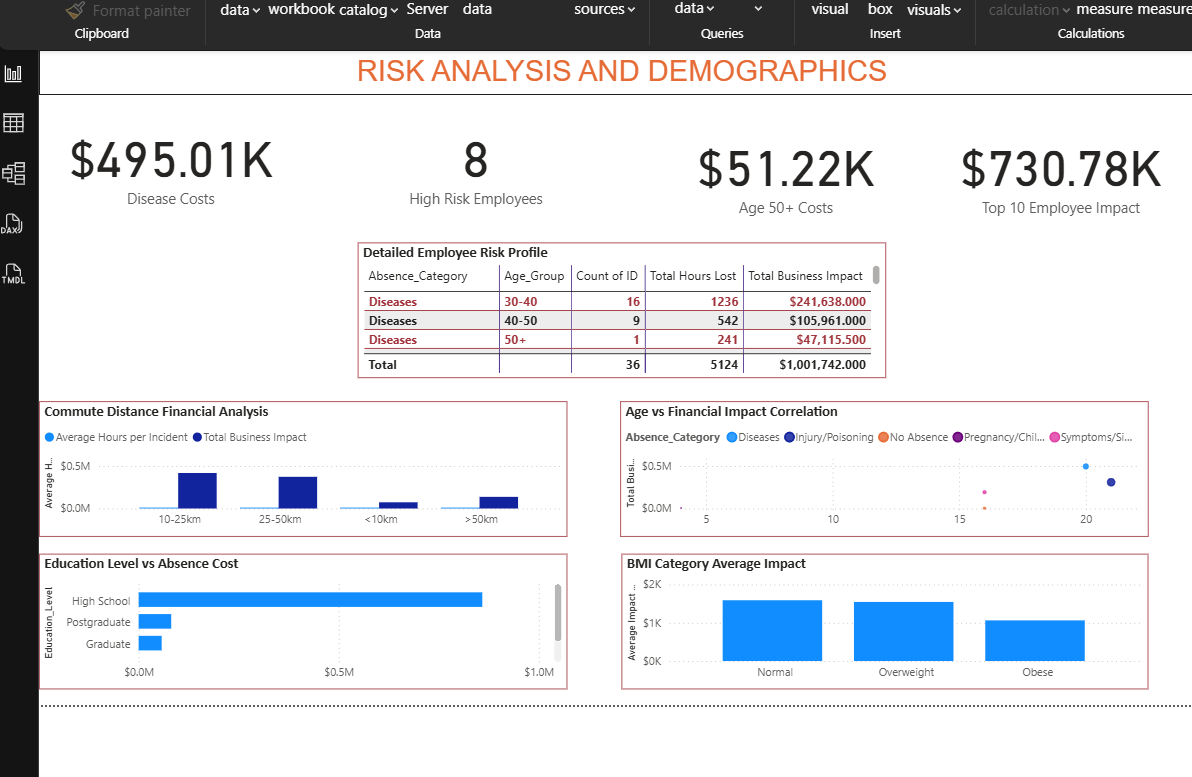

Layout of this report page (visuals, bound fields, positions):
{"tool":"powerbi","page":{"name":"Risk Analysis","canvas":[1280,720],"ordinal":1},"visuals":[{"type":"textbox","box":[0,0,1280.3,49.5],"z":0},{"type":"tableEx","title":"Detailed Employee Risk Profile","fields":{"Values":["PowerBI_Import_Data.Absence_Category","PowerBI_Import_Data.Age_Group","Count(PowerBI_Import_Data.ID)","PowerBI_Import_Data.Total Hours Lost","PowerBI_Import_Data.Total Business Impact"]},"box":[349.4,211.3,580.1,149.2],"z":1000},{"type":"scatterChart","title":"Age vs Financial Impact Correlation","fields":{"X":["Count(PowerBI_Import_Data.Age)"],"Y":["PowerBI_Import_Data.Total Business Impact"],"Size":["CountNonNull(PowerBI_Import_Data.Absenteeism time in hours)"],"Series":["PowerBI_Import_Data.Absence_Category"]},"box":[638.1,385.3,580.1,149.2],"z":2000},{"type":"clusteredColumnChart","title":"Commute Distance Financial Analysis","fields":{"Category":["PowerBI_Import_Data.Distance_Category"],"Y":["PowerBI_Import_Data.Average Hours per Incident","PowerBI_Import_Data.Total Business Impact"]},"box":[0,385.3,580.1,149.2],"z":3000},{"type":"clusteredBarChart","title":"Education Level vs Absence Cost","fields":{"Y":["PowerBI_Import_Data.Total Business Impact"],"Category":["PowerBI_Import_Data.Education_Level"]},"box":[0,552.4,580.1,149.2],"z":4000},{"type":"clusteredColumnChart","title":"BMI Category Average Impact","fields":{"Category":["PowerBI_Import_Data.BMI_Category"],"Y":["PowerBI_Import_Data.Average Impact per Incident"]},"box":[639.4,552.4,578.7,149.2],"z":5000},{"type":"card","fields":{"Values":["PowerBI_Import_Data.Disease Costs"]},"box":[0,49.7,290,150.5],"z":6000},{"type":"card","fields":{"Values":["PowerBI_Import_Data.High Risk Employees"]},"box":[334.2,49.7,290,150.5],"z":7000},{"type":"card","fields":{"Values":["PowerBI_Import_Data.Age 50+ Costs"]},"box":[675.4,59.4,290,150.5],"z":8000},{"type":"card","fields":{"Values":["PowerBI_Import_Data.Top 10 Employee Impact"]},"box":[976.4,59.4,290,150.5],"z":9000}]}

Visuals, with their boxes on the page's 1280x720 design canvas (x1, y1, x2, y2). These are canvas units, not pixel positions in the 1192x777 screenshot, which may show the page scaled, cropped or inside an application window:
textbox: (0,0,1280,50)
"Detailed Employee Risk Profile" tableEx: (349,211,930,360)
"Age vs Financial Impact Correlation" scatterChart: (638,385,1218,534)
"Commute Distance Financial Analysis" clusteredColumnChart: (0,385,580,534)
"Education Level vs Absence Cost" clusteredBarChart: (0,552,580,702)
"BMI Category Average Impact" clusteredColumnChart: (639,552,1218,702)
card - PowerBI_Import_Data.Disease Costs: (0,50,290,200)
card - PowerBI_Import_Data.High Risk Employees: (334,50,624,200)
card - PowerBI_Import_Data.Age 50+ Costs: (675,59,965,210)
card - PowerBI_Import_Data.Top 10 Employee Impact: (976,59,1266,210)
